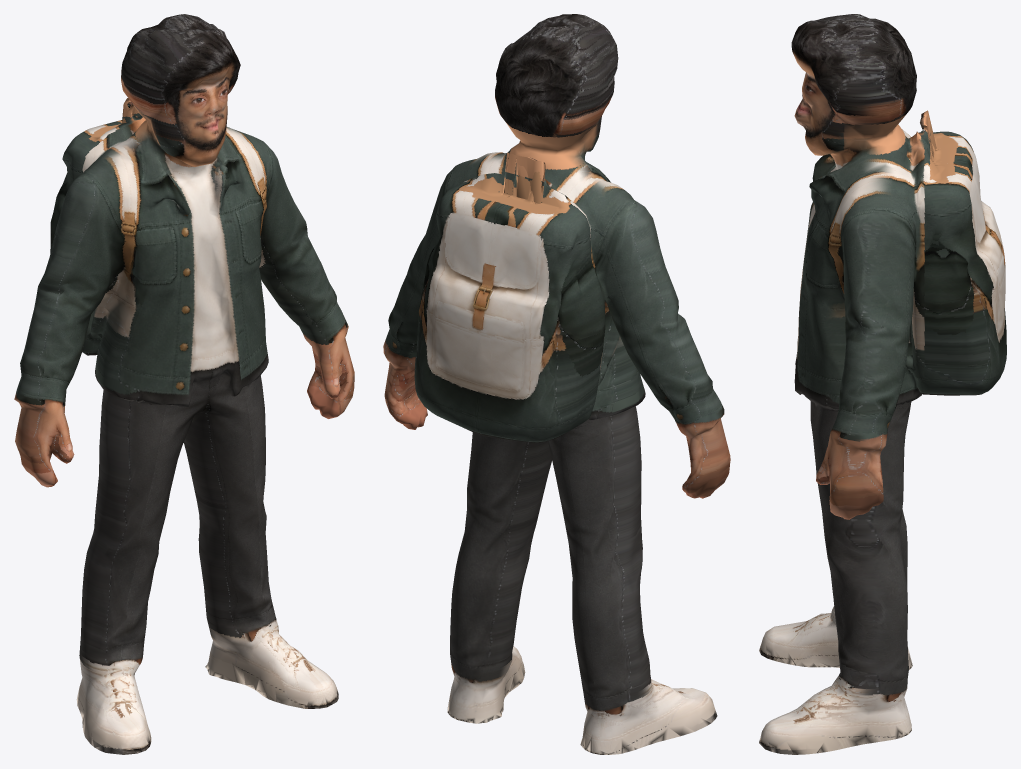
The model's file is anshul-colour-draft-v1.obj.
3 views of the same model, side by side, from view 1: azimuth 30°, elevation 25°; view 2: azimuth 150°, elevation 25°; view 3: azimuth 270°, elevation 25° (orthographic). The views are drawn at different scales.
Visible parts, largest first — view 1: AnshulColourDraft; view 2: AnshulColourDraft; view 3: AnshulColourDraft.
Boxes of the visible parts, <box> form: AnshulColourDraft: <box>14,14,354,754</box>; AnshulColourDraft: <box>383,14,730,754</box>; AnshulColourDraft: <box>759,14,1006,754</box>.
Bounding box in the file's own units: 0.613 × 1.2 × 0.401.
1 material, 1 textured.
